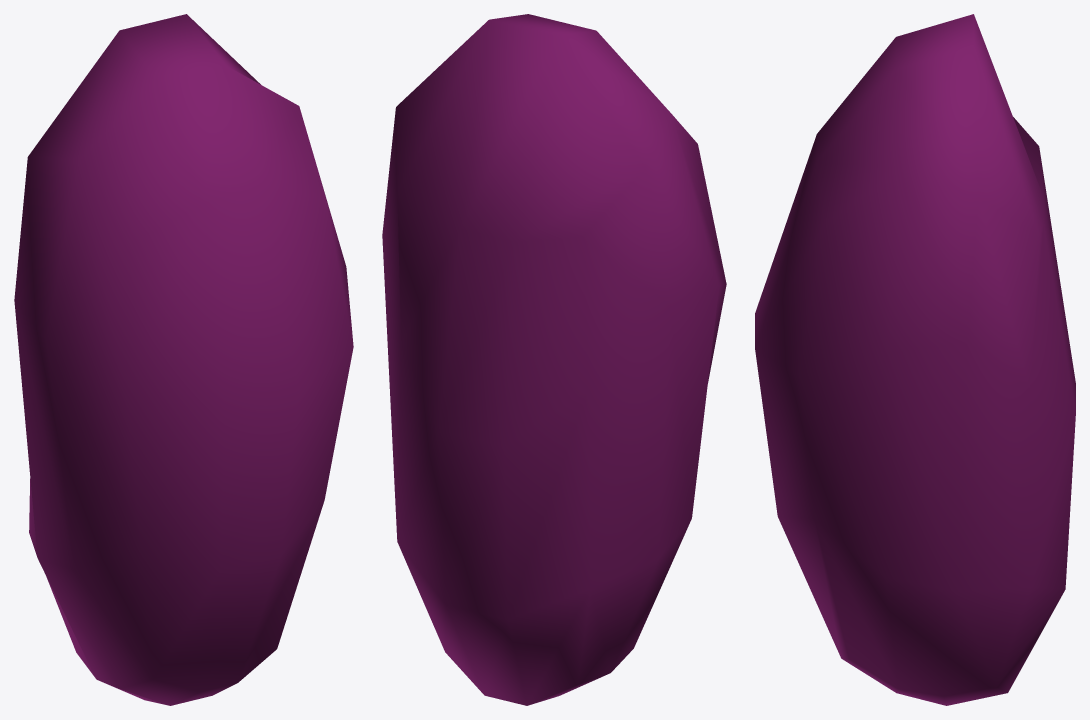
Rendered from Rock.fbx.
The picture shows the model from 3 angles, left to right: view 1: azimuth 30°, elevation 25°; view 2: azimuth 150°, elevation 25°; view 3: azimuth 270°, elevation 25°; orthographic projection.
Parts seen in each view (by area): view 1: Roundcube; view 2: Roundcube; view 3: Roundcube.
Boxes of the visible parts, left/top/right/bottom form: Roundcube: left=14, top=14, right=353, bottom=705; Roundcube: left=382, top=14, right=726, bottom=705; Roundcube: left=755, top=14, right=1075, bottom=705.
Size of the model in its own units: 3077 by 6496 by 2842.
